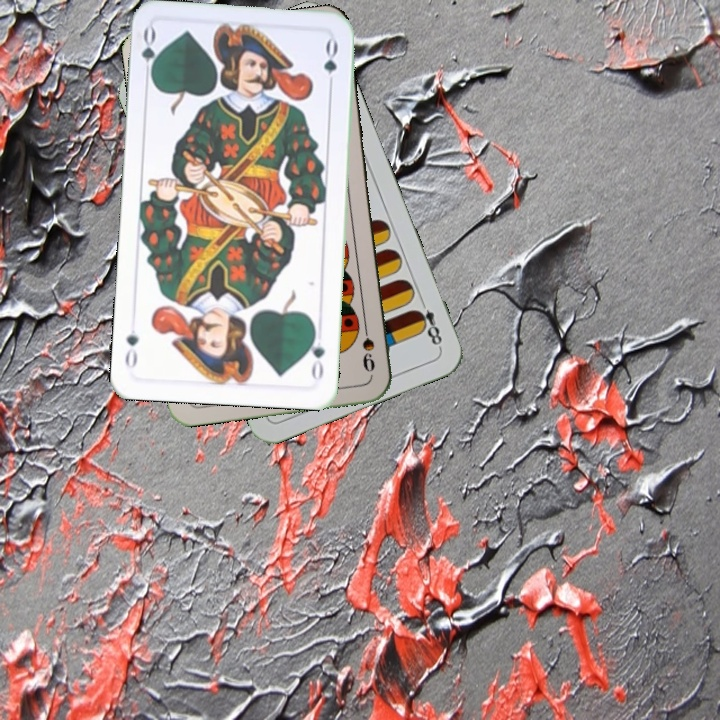E8: (410, 294, 445, 351)
GO: (137, 24, 163, 84), (305, 324, 328, 384)
S9: (358, 318, 378, 375)
